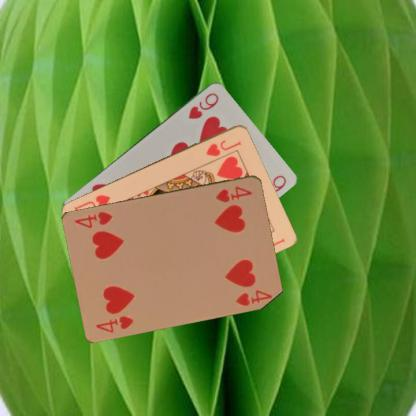4h: (94, 312, 135, 334), (212, 184, 254, 204)
9h: (186, 90, 220, 120)
Jh: (203, 136, 243, 158)
